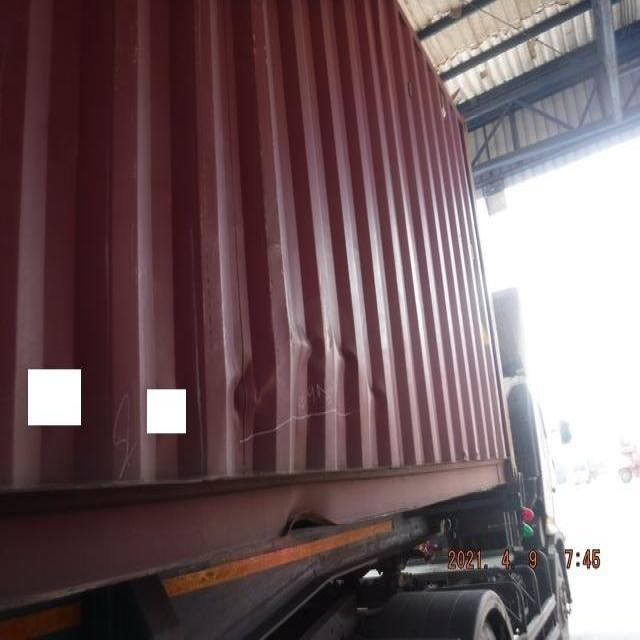dent: (221, 312, 394, 430)
